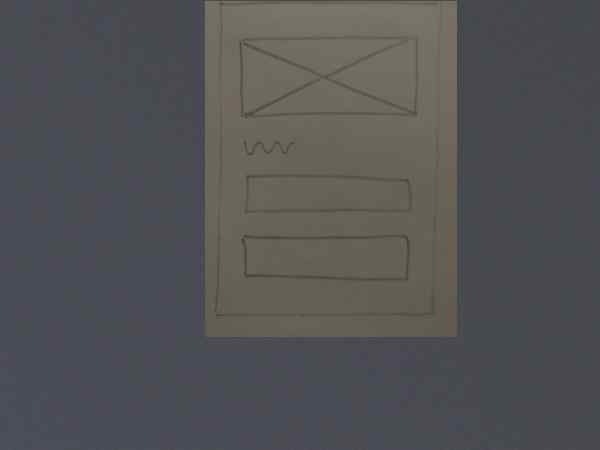image: (235, 31, 421, 124)
text: (239, 137, 298, 159)
text_input: (238, 232, 413, 283), (240, 170, 415, 220)
